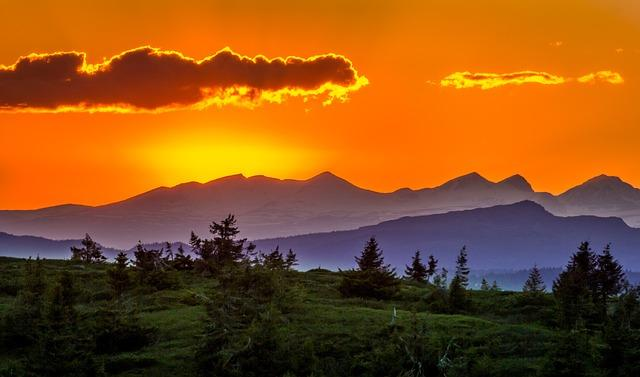Non_Gorille: (88, 27, 579, 350)
